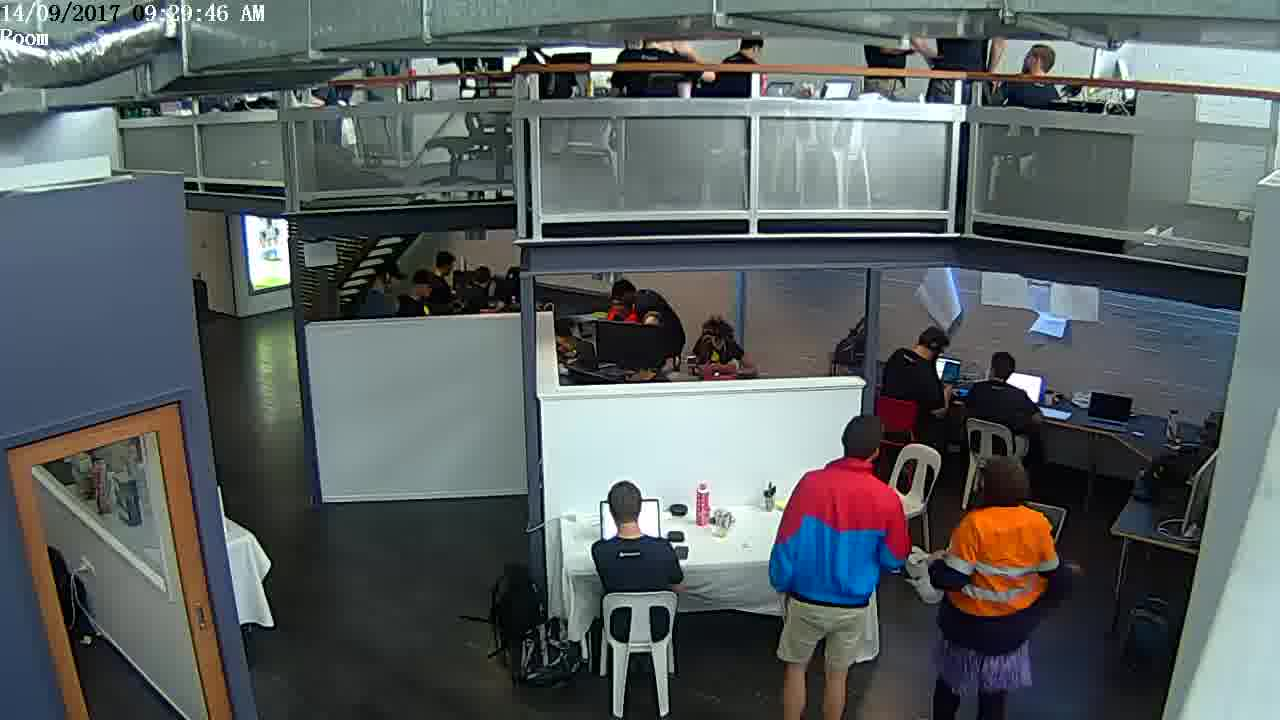bad: (971, 447, 1044, 527), (832, 411, 896, 492)
